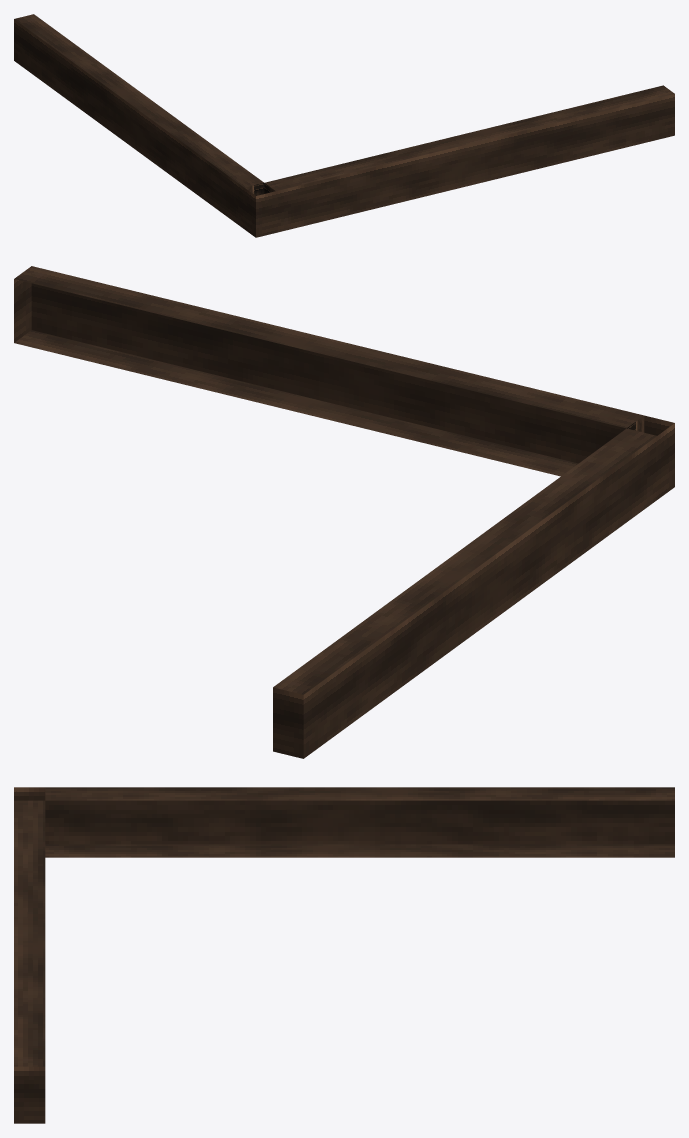
Rendered from floor_beam_corner_2.glb.
3 renders of one model, top to bottom at view 1: azimuth 30°, elevation 25°; view 2: azimuth 150°, elevation 25°; view 3: azimuth 270°, elevation 25°, orthographic. The views are drawn at different scales.
Parts seen in each view (by area): view 1: floor_beam_corner_2; view 2: floor_beam_corner_2; view 3: floor_beam_corner_2.
Part boxes in pixels (x1,y1,x2,y2): floor_beam_corner_2: (14, 14, 674, 237); floor_beam_corner_2: (14, 266, 674, 758); floor_beam_corner_2: (14, 787, 674, 1123).
Bounding box in the file's own units: 2.1 × 0.2 × 2.1.
Materials: 1 (1 with a texture image).
